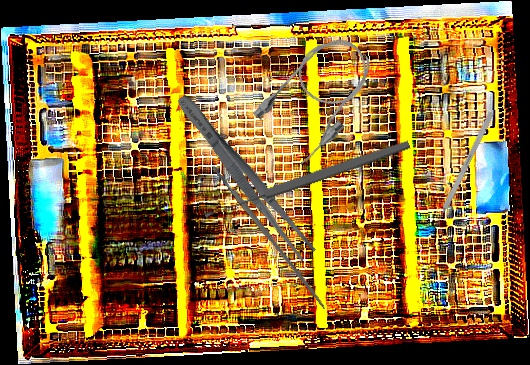Cannula: (248, 24, 389, 170)
Dressing Forceps: (171, 89, 319, 264)
Hook Surgical: (430, 110, 495, 234)
Scalpel Handle: (210, 162, 328, 311)
Surgical Spoon: (202, 138, 412, 221)
